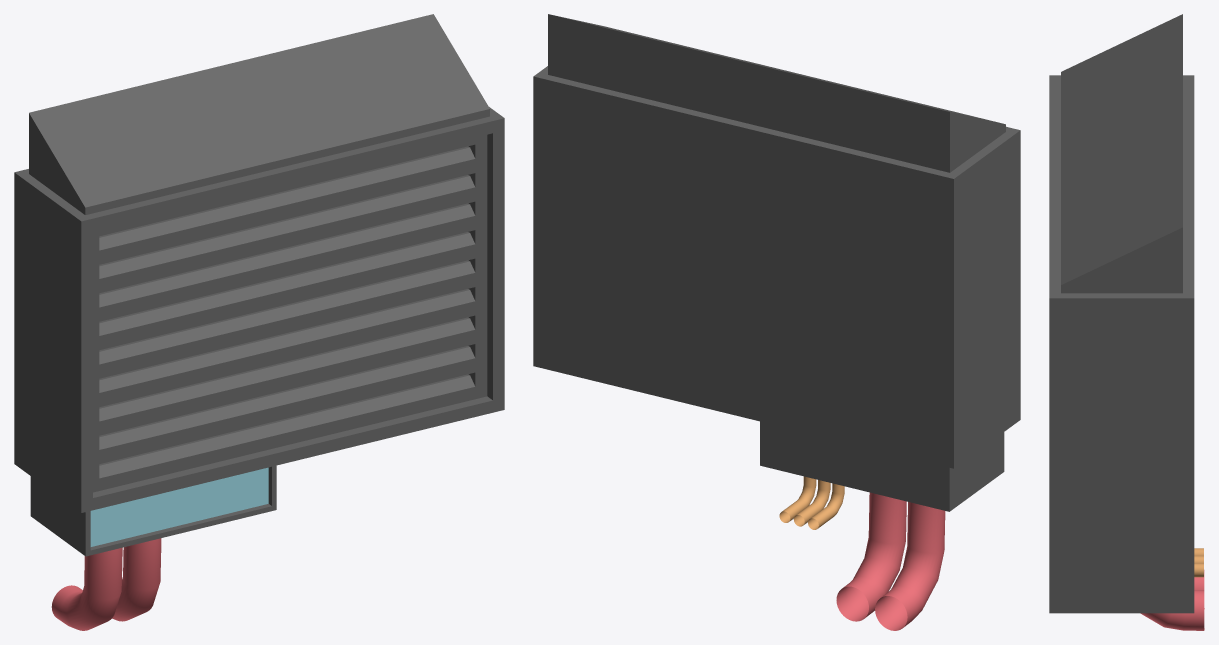
Rendered from Airvent 1.fbx.
3 views of the same model, side by side, from view 1: azimuth 30°, elevation 25°; view 2: azimuth 150°, elevation 25°; view 3: azimuth 270°, elevation 25° (orthographic). The views are drawn at different scales.
Parts seen in each view (by area): view 1: Airvent Base, Airvent Panel, Pipe 1, Pipe 2; view 2: Airvent Base, Pipe 1, Pipe 2, Small Pipe 1, Small Pipe 3, Small Pipe 2; view 3: Airvent Base, Pipe 2.
Part boxes in pixels (<box>): Airvent Base: <box>14,14,504,556</box>; Airvent Panel: <box>90,467,268,546</box>; Pipe 1: <box>51,547,122,630</box>; Pipe 2: <box>112,538,161,621</box>; Airvent Base: <box>533,14,1020,511</box>; Pipe 1: <box>875,502,945,630</box>; Pipe 2: <box>836,492,906,621</box>; Small Pipe 1: <box>808,483,844,529</box>; Small Pipe 3: <box>779,476,816,522</box>; Small Pipe 2: <box>793,480,830,526</box>; Airvent Base: <box>1049,14,1194,613</box>; Pipe 2: <box>1140,590,1204,630</box>.
Size of the model in its own units: 195 by 232 by 57.4.
